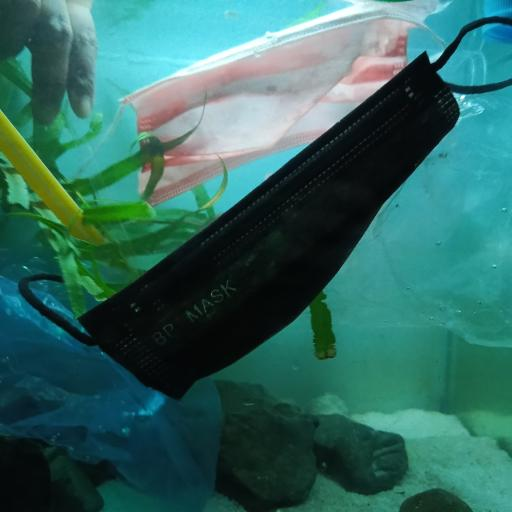bottle_cap: (481, 12, 512, 41)
mask: (18, 14, 512, 400), (99, 0, 417, 206)
plastic_bag: (0, 211, 212, 512), (353, 46, 512, 348)
plastic_straw: (0, 108, 102, 243)
